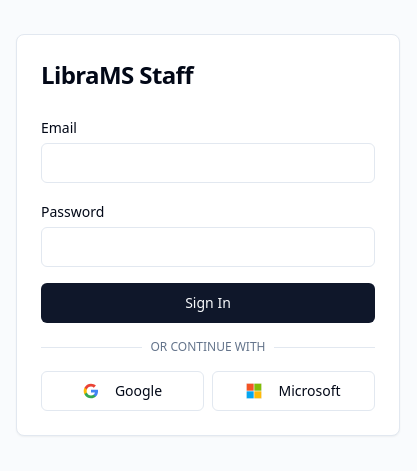
LoginPage › shows APPROVAL_PENDING error message
Type "jane@school.edu" into the field labelled "Email" at (208, 163), box [41,143,375,183]
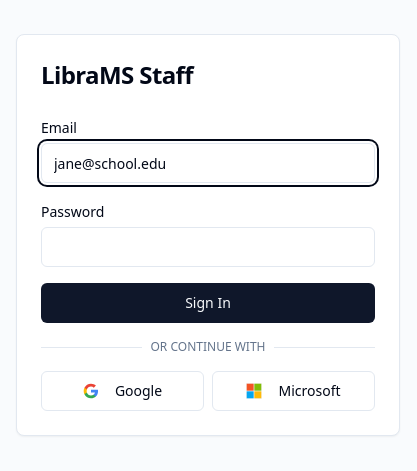
Type "pass1234" into the password field labelled "Password" at (208, 247), box [41,227,375,267]
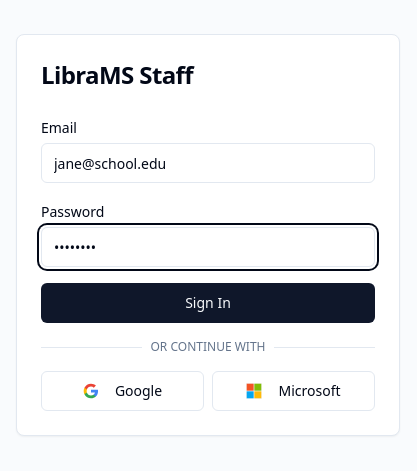
Click the button "Sign In" at (208, 303), box [41,283,375,323]
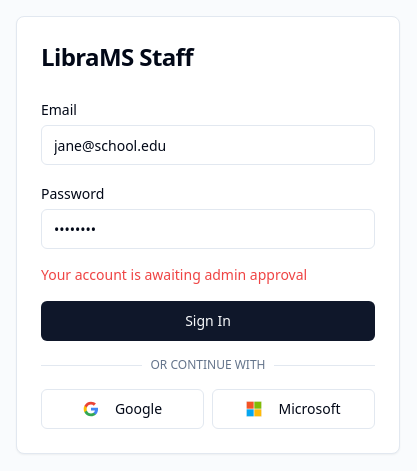
Expected: the text "Your account is awaiting admin approval" is shown, [41,265,307,284]
